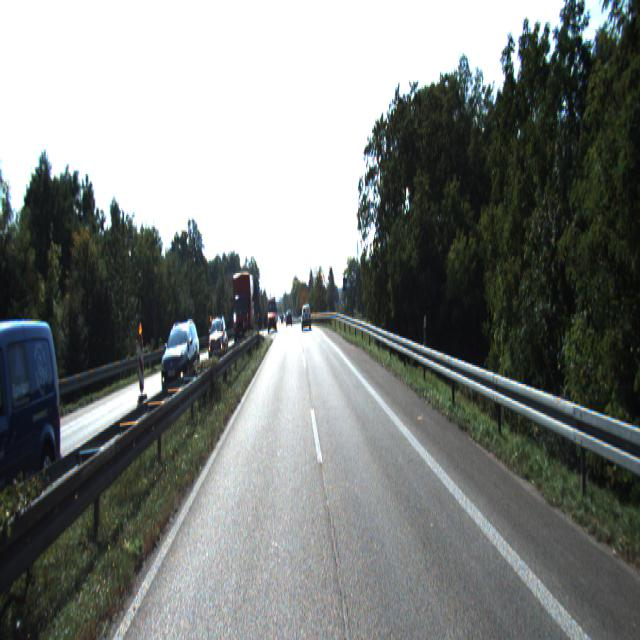Car: (0, 314, 72, 539), (159, 323, 202, 401), (231, 272, 255, 349), (207, 314, 229, 365), (301, 308, 311, 332)
